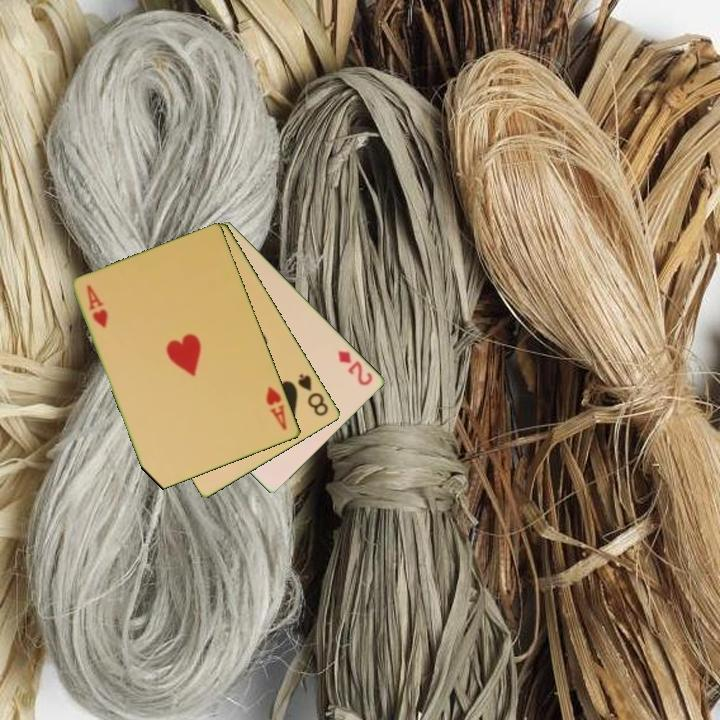2d: (335, 347, 376, 388)
8s: (294, 370, 332, 419)
Ah: (83, 281, 111, 331), (263, 383, 290, 433)
